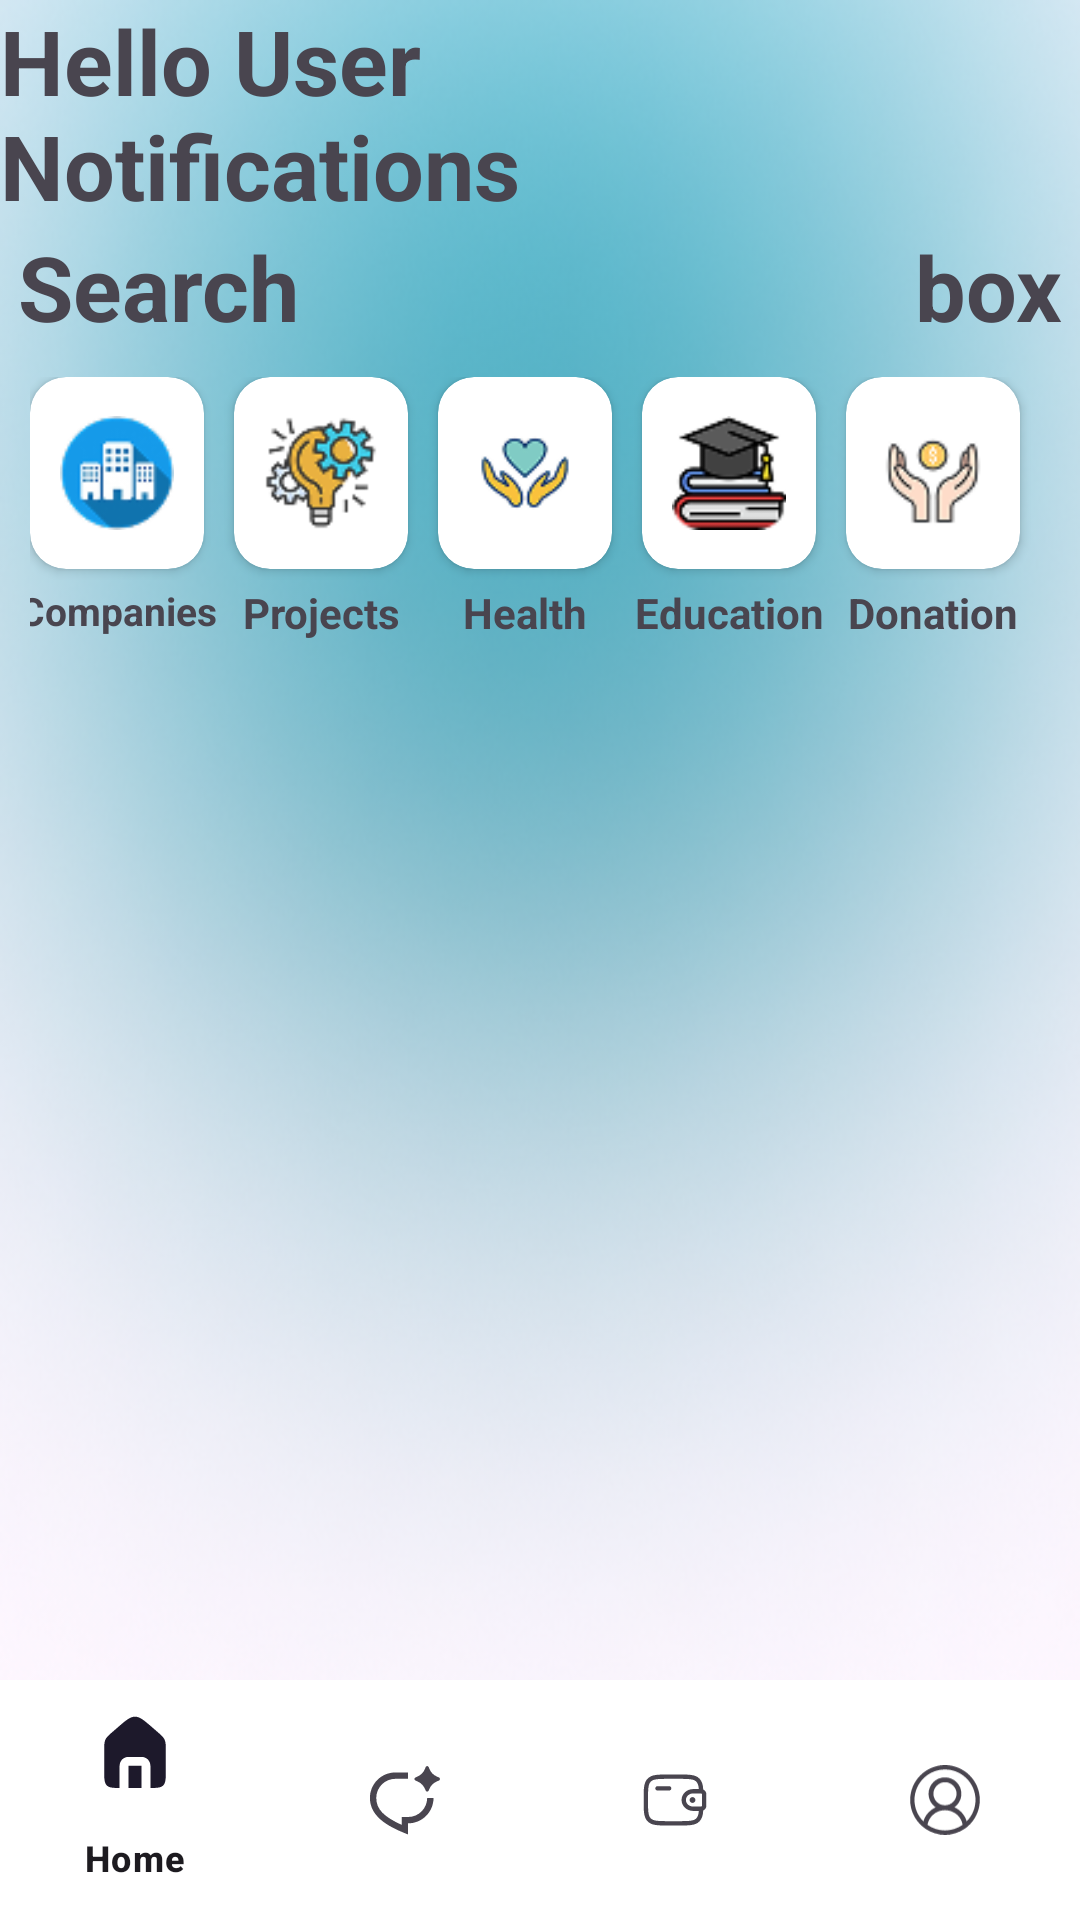

Screen size 1080 x 1920. Icon name, then its box in pixels as rect(x1, y1, x2, y2):
company: rect(60, 416, 174, 530)
edu: rect(672, 416, 786, 530)
